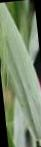Wheat: (1, 6, 40, 136)
